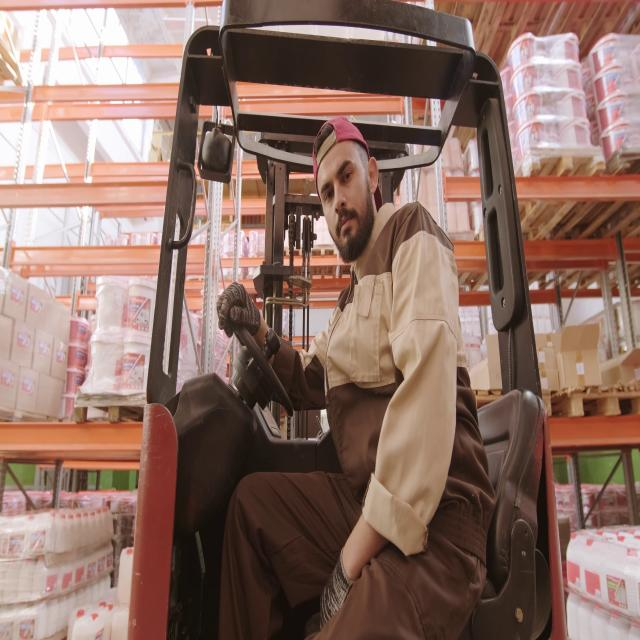gloved: (319, 547, 353, 630), (216, 282, 261, 338)
